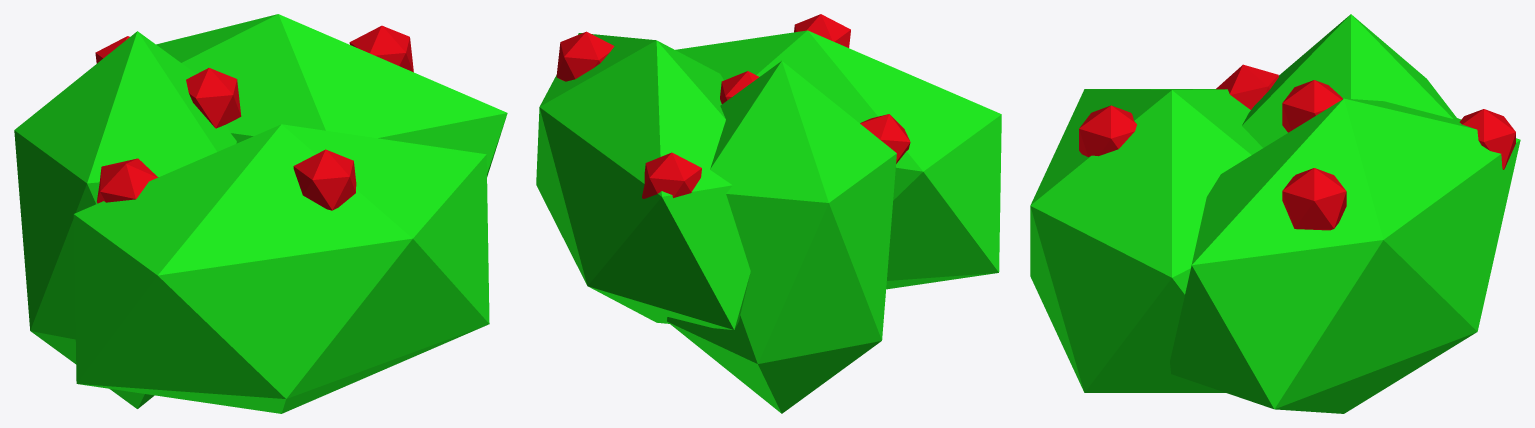
Rendered from smallBush.fbx.
3 views of the same model, side by side, from view 1: azimuth 30°, elevation 25°; view 2: azimuth 150°, elevation 25°; view 3: azimuth 270°, elevation 25° (orthographic). The views are drawn at different scales.
Parts seen in each view (by area): view 1: Icosphere, Icosphere.002, Icosphere.001, Icosphere.003, Icosphere.004, Icosphere.006, Icosphere.005; view 2: Icosphere.002, Icosphere.001, Icosphere, Icosphere.007, Icosphere.005, Icosphere.006, Icosphere.003, Icosphere.004; view 3: Icosphere.001, Icosphere, Icosphere.002, Icosphere.005, Icosphere.003, Icosphere.004, Icosphere.007, Icosphere.006.
Part boxes in pixels (<box>): Icosphere: <box>73,124,489,413</box>; Icosphere.002: <box>14,31,236,408</box>; Icosphere.001: <box>156,14,507,176</box>; Icosphere.003: <box>293,149,356,210</box>; Icosphere.004: <box>186,68,241,128</box>; Icosphere.006: <box>97,158,157,203</box>; Icosphere.005: <box>349,25,413,72</box>; Icosphere.002: <box>667,61,896,413</box>; Icosphere.001: <box>536,33,750,329</box>; Icosphere: <box>675,30,1001,289</box>; Icosphere.007: <box>642,152,701,198</box>; Icosphere.005: <box>556,31,614,81</box>; Icosphere.006: <box>860,114,910,163</box>; Icosphere.003: <box>794,14,850,47</box>; Icosphere.004: <box>720,71,758,103</box>; Icosphere.001: <box>1170,98,1520,413</box>; Icosphere: <box>1030,89,1262,392</box>; Icosphere.002: <box>1242,14,1456,147</box>; Icosphere.005: <box>1282,168,1346,230</box>; Icosphere.003: <box>1079,105,1136,157</box>; Icosphere.004: <box>1282,80,1342,132</box>; Icosphere.007: <box>1459,109,1515,169</box>; Icosphere.006: <box>1216,64,1278,109</box>.
Bounding box in the file's own units: 323 × 261 × 294.
